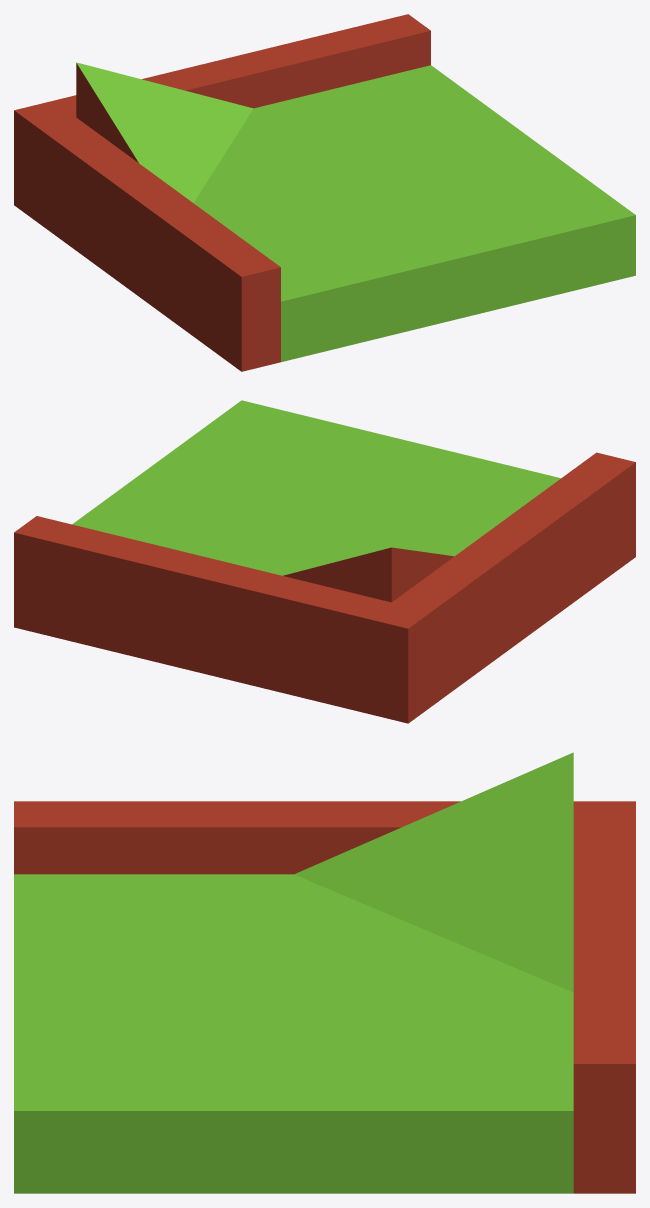
File: Corner_Hill.FBX
The picture shows the model from 3 angles, top to bottom: view 1: azimuth 30°, elevation 25°; view 2: azimuth 150°, elevation 25°; view 3: azimuth 270°, elevation 25°; orthographic projection. The views are drawn at different scales.
Visible parts, largest first — view 1: Hill_corner_01, Walls; view 2: Walls, Hill_corner_01; view 3: Hill_corner_01, Walls.
Part boxes in pixels (bbox=[...]): Hill_corner_01: bbox=[76, 62, 635, 362]; Walls: bbox=[14, 14, 430, 371]; Walls: bbox=[14, 452, 635, 723]; Hill_corner_01: bbox=[72, 400, 560, 602]; Hill_corner_01: bbox=[14, 752, 573, 1193]; Walls: bbox=[14, 801, 635, 1193].
Size of the model in its own units: 0.9999 by 0.9999 by 0.3633.
